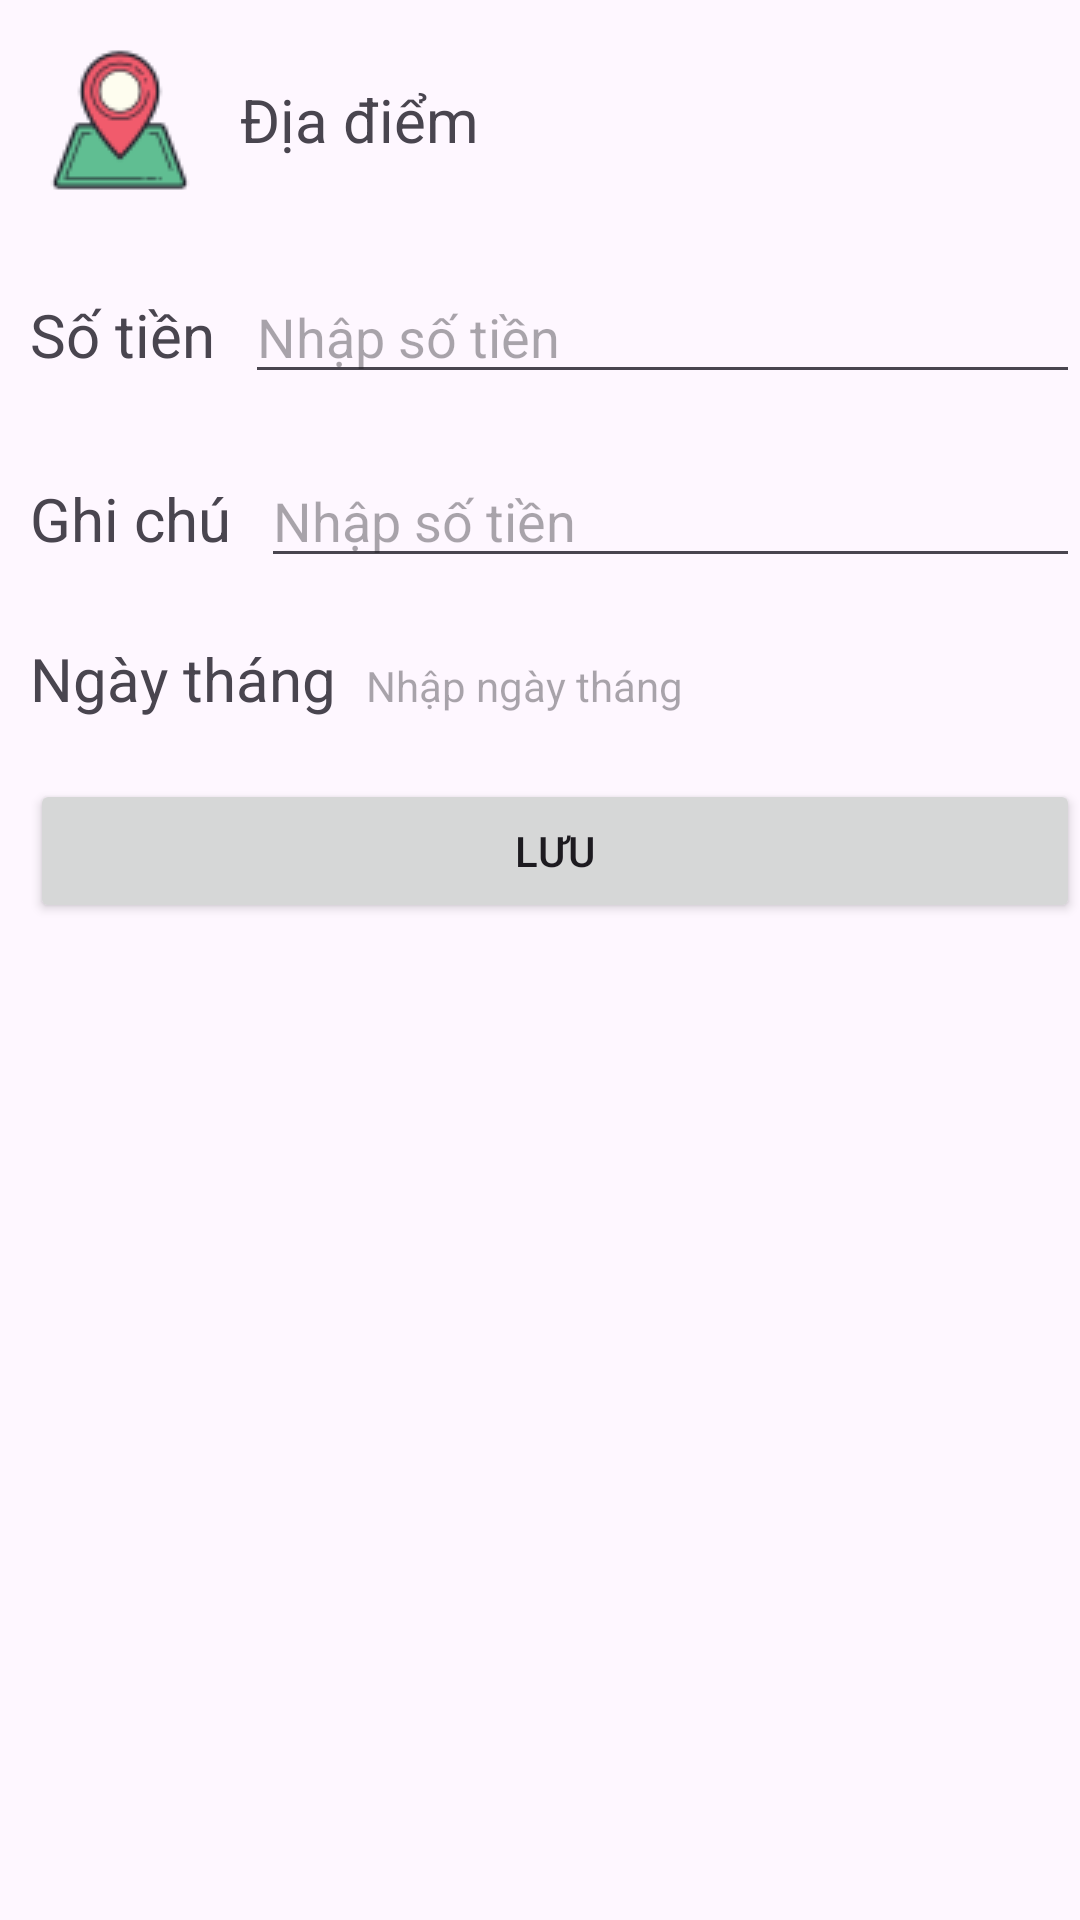

Icon bounding boxes for this 1080w x 1920h phone screenshot, format [x1, y1, x2, y2]:
address: [53, 50, 187, 190]
